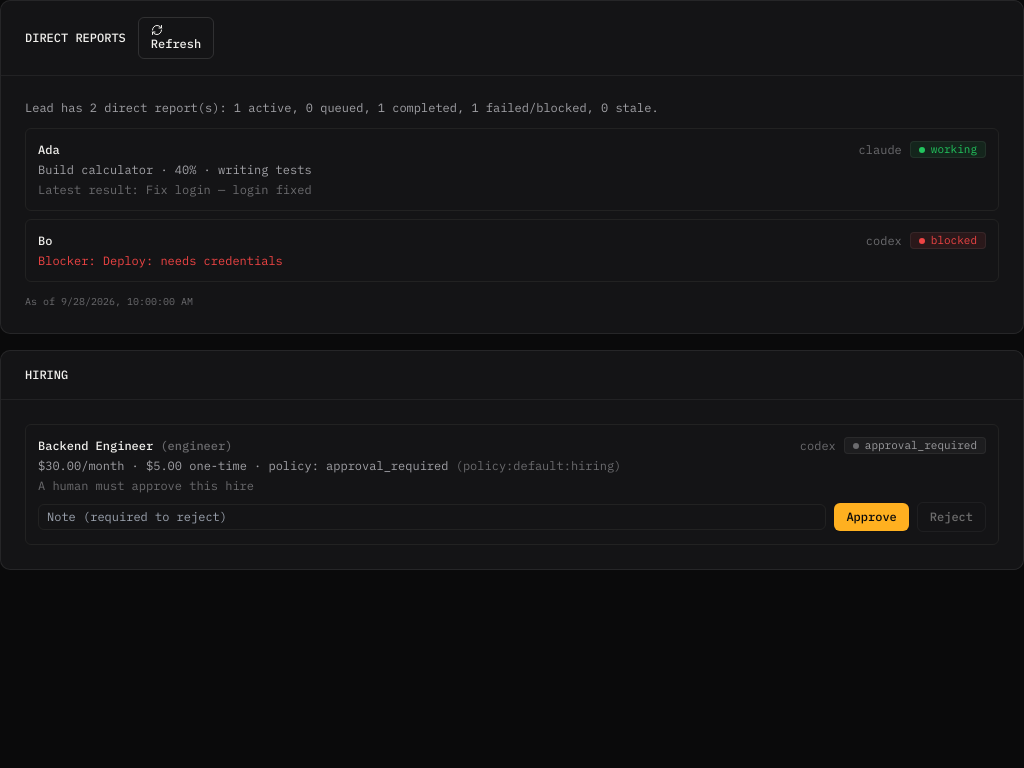
Test: ManagerPanel › shows a refused decision
Click the button "Approve".
click(872, 517)  # box [834, 503, 909, 531]
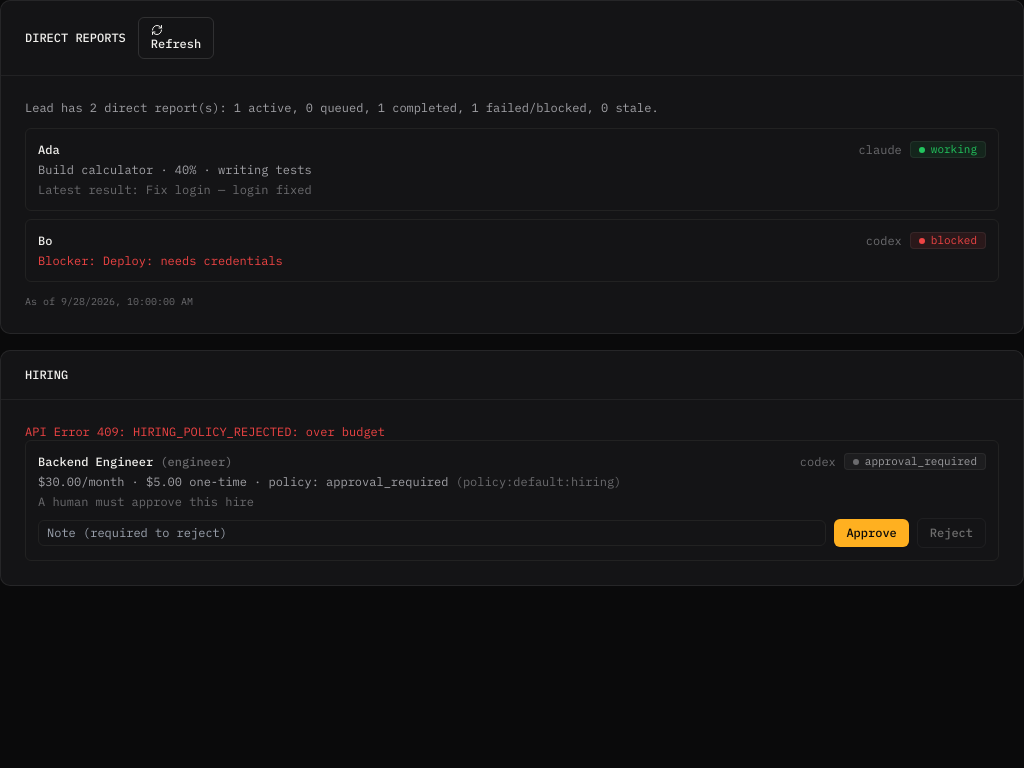
Check: the list item with test id "hire-row" shows "approval_required", box [865, 454, 977, 468]
Check: the message "API Error 409: HIRING_POLICY_REJECTED: over budget" is shown, box [25, 424, 385, 439]
